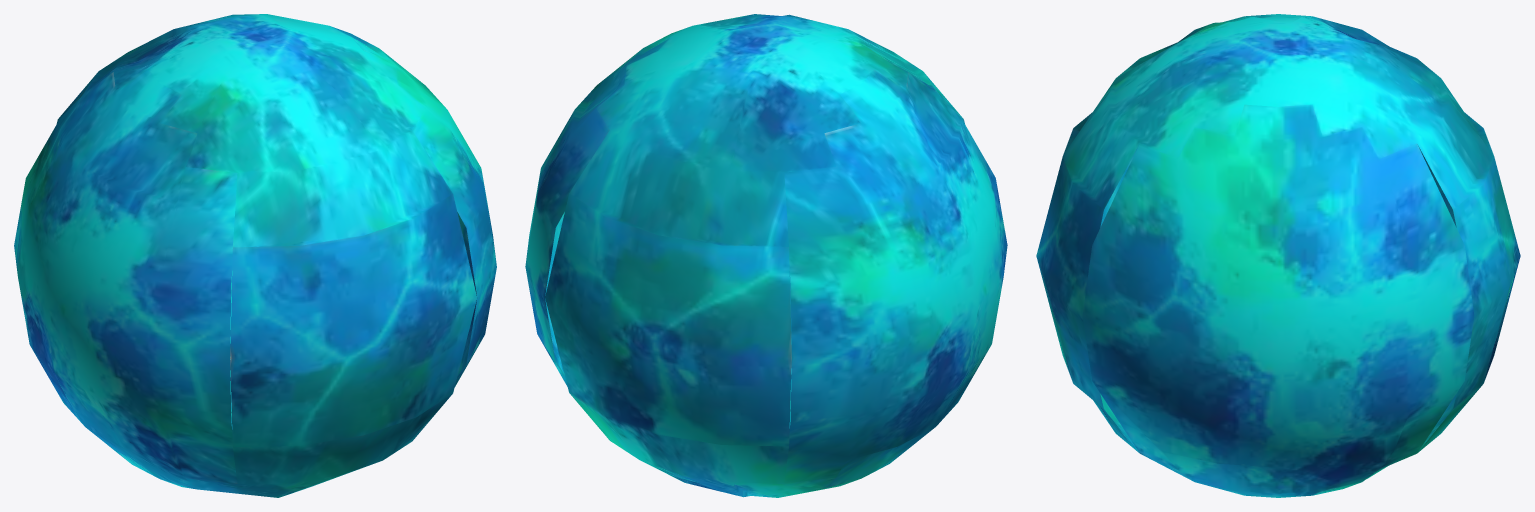
File: small_sphereCelestialPrism_lowPoly.glb
The picture shows the model from 3 angles, left to right: view 1: azimuth 30°, elevation 25°; view 2: azimuth 150°, elevation 25°; view 3: azimuth 270°, elevation 25°; orthographic projection.
Parts seen in each view (by area): view 1: polySurface15; view 2: polySurface15; view 3: polySurface15.
Part boxes in pixels (<box>): polySurface15: <box>14,14,496,497</box>; polySurface15: <box>525,14,1007,497</box>; polySurface15: <box>1036,14,1520,497</box>.
Bounding box in the file's own units: 0.3638 × 0.3593 × 0.3638.
1 material, 1 textured.
